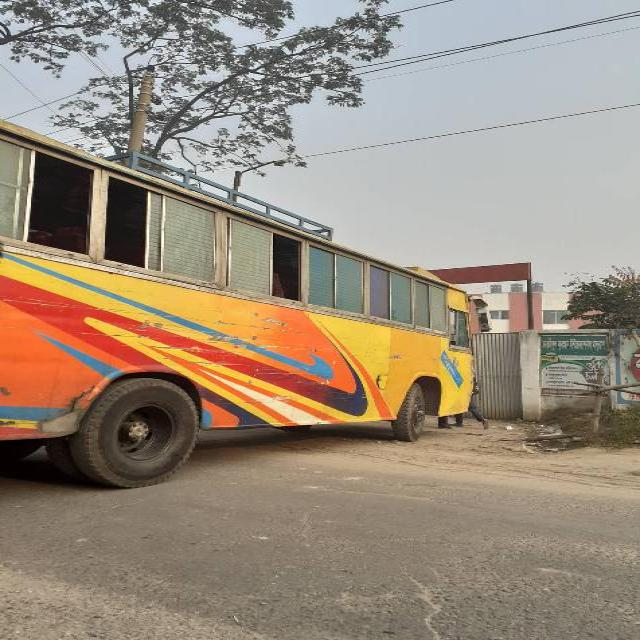bus: (0, 122, 473, 462)
